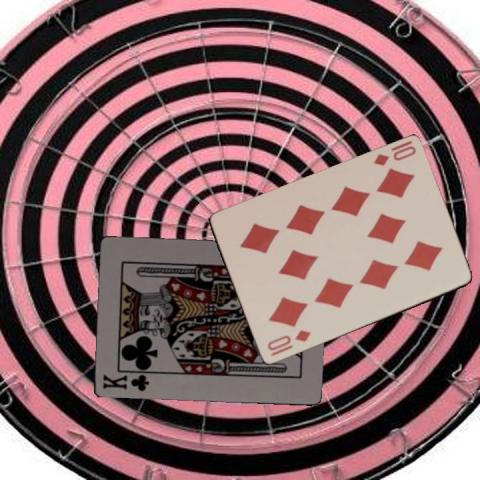10d: (264, 327, 312, 358), (370, 137, 417, 168)
Kc: (99, 372, 150, 393)
